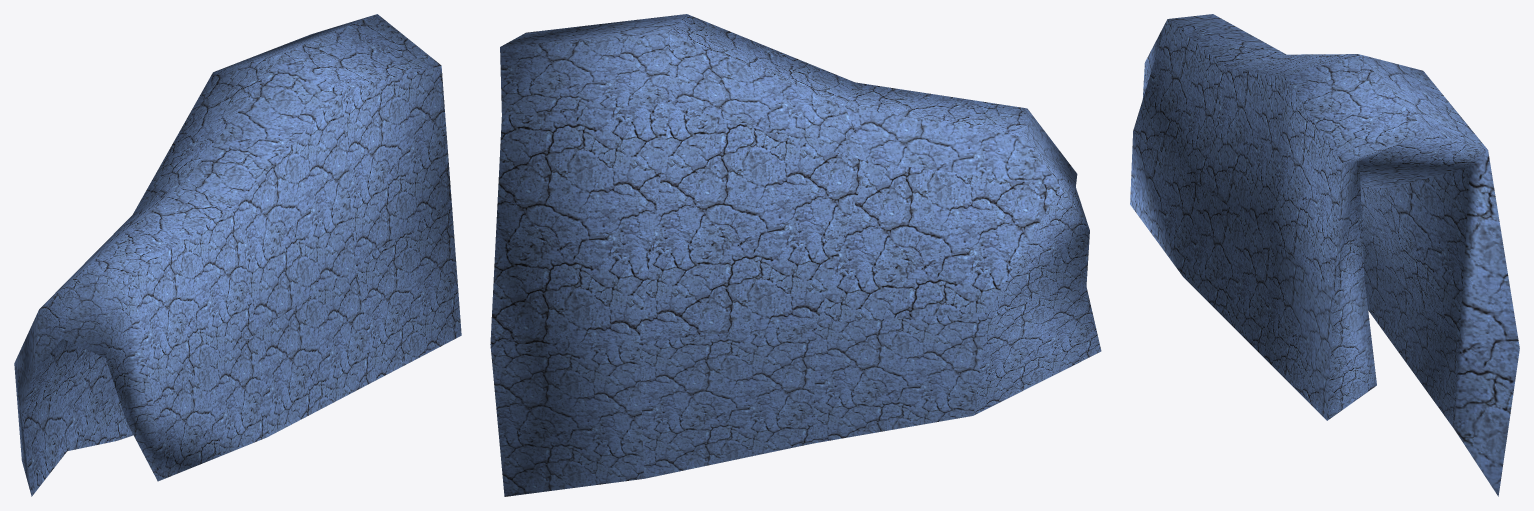
File: track_chinese_env_terrain_10.FBX
3 views of the same model, side by side, from view 1: azimuth 30°, elevation 25°; view 2: azimuth 150°, elevation 25°; view 3: azimuth 270°, elevation 25° (orthographic). The views are drawn at different scales.
Parts seen in each view (by area): view 1: track_chinese_env_terrain_10; view 2: track_chinese_env_terrain_10; view 3: track_chinese_env_terrain_10.
Part boxes in pixels (x1,y1,x2,y2): track_chinese_env_terrain_10: (14,14,461,496); track_chinese_env_terrain_10: (490,14,1101,496); track_chinese_env_terrain_10: (1130,14,1519,496).
Bounding box in the file's own units: 132 × 107 × 94.32.
